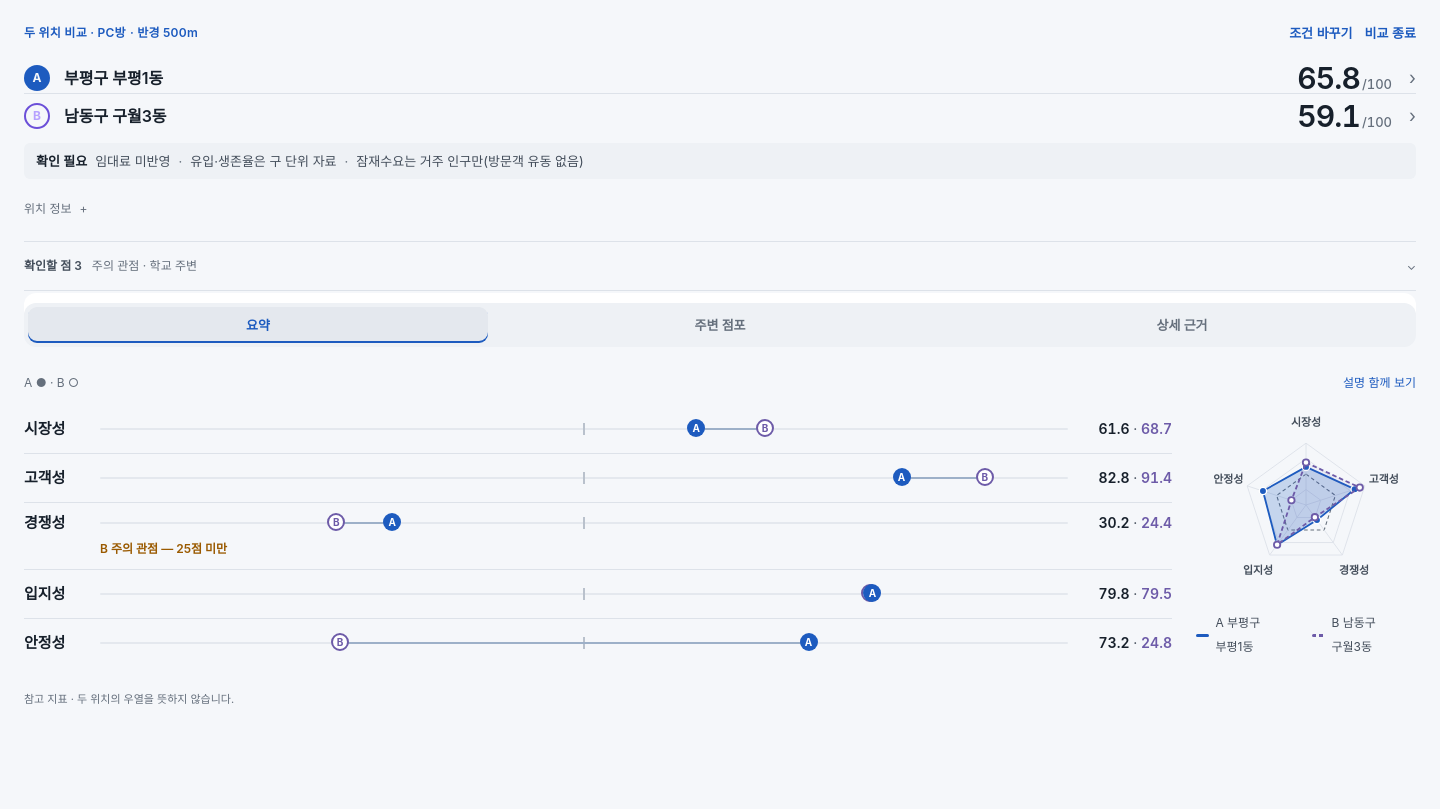
Test: CompareResult — 점수 비교 표 › 종합 → 5대 관점 순서, 엔진 값 그대로, 표시용 차이(A−B)는 중립 표기
The image size is (1440, 809).
Click the tab "상세 근거": (1182, 325) [952,307,1412,343]
(page scrolled)
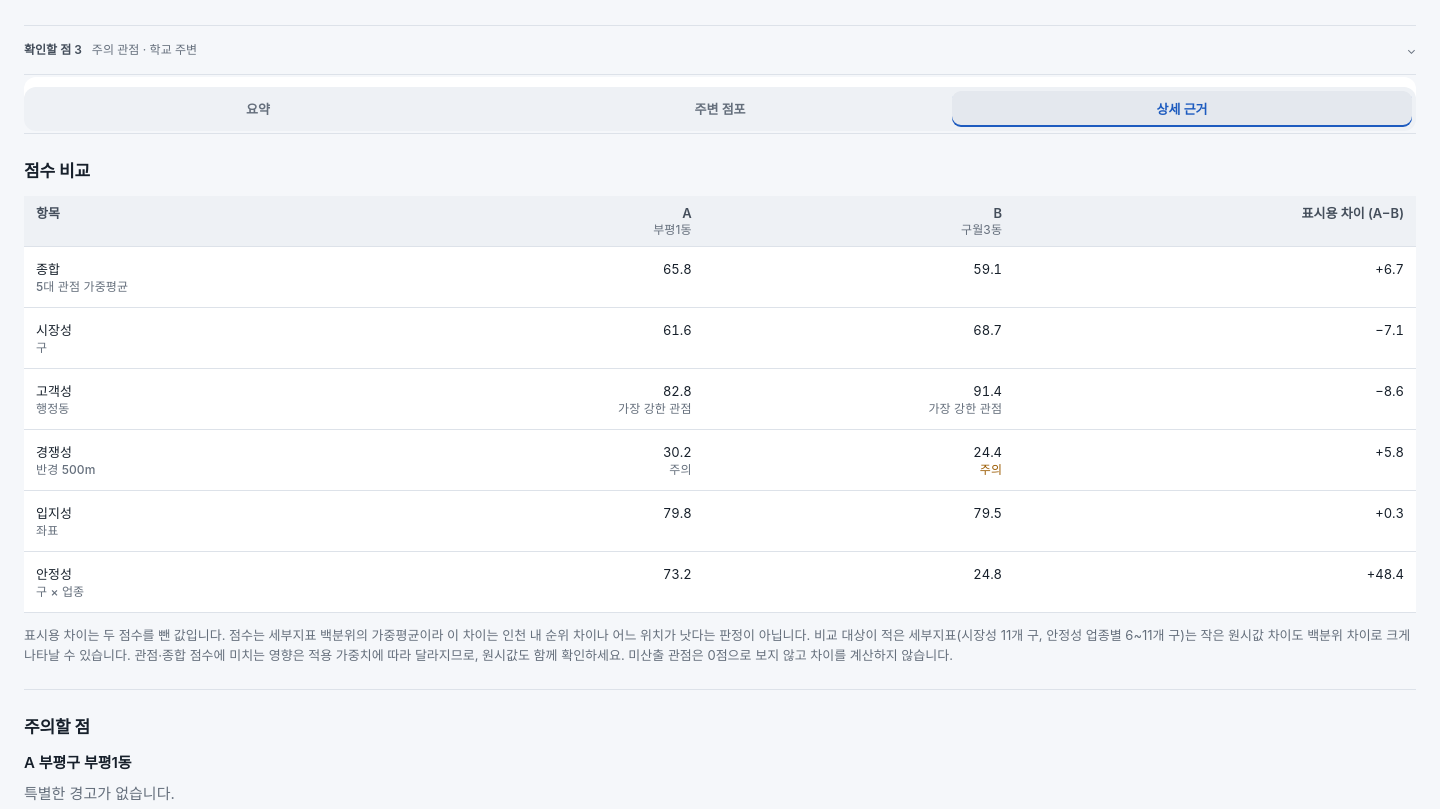
Check: the column headings read "항목", "A부평1동", "B구월3동", "표시용 차이 (A−B)", in this order, box [24,196,393,246]; [393,196,704,246]; [704,196,1014,246]; [1014,196,1416,246]
Check: the cell "30.2 주의" is shown, box [393,430,704,490]
Check: the cell "24.4 주의" is shown, box [704,430,1014,490]
